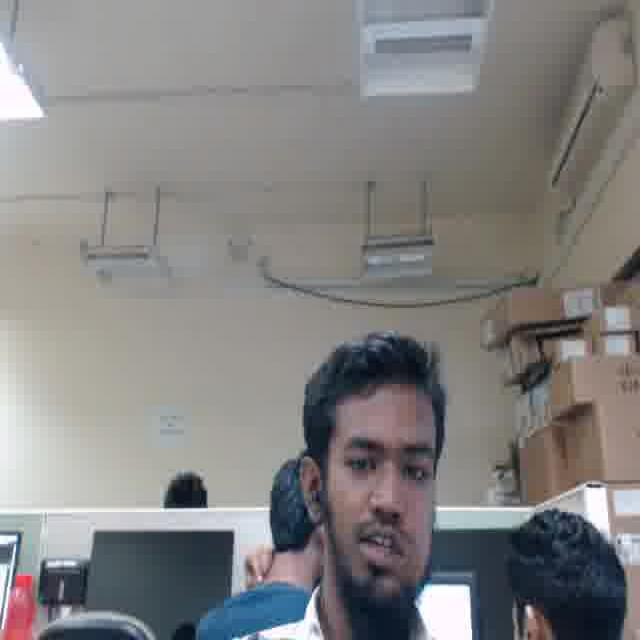Engaged: (325, 389, 439, 596)
